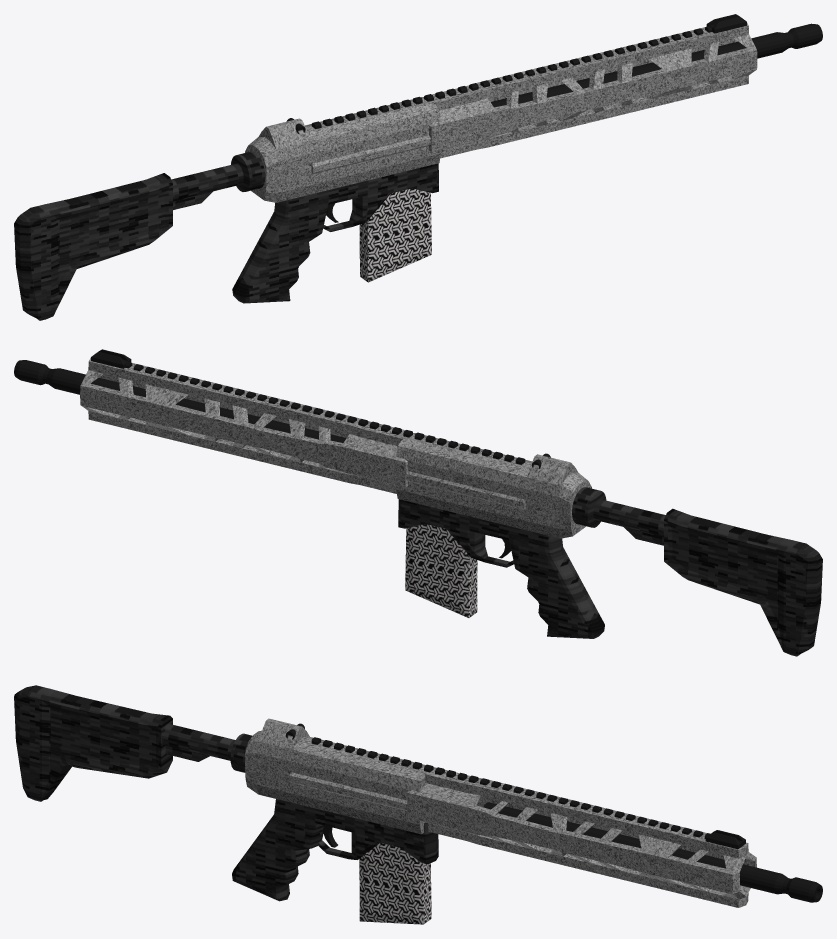
File: DMR Model V1.fbx
3 renders of one model, top to bottom at view 1: azimuth 30°, elevation 25°; view 2: azimuth 150°, elevation 25°; view 3: azimuth 330°, elevation 25°, orthographic.
Parts seen in each view (by area): view 1: DMR Bake; view 2: DMR Bake; view 3: DMR Bake.
Boxes of the visible parts, x1,y1,x2,y2 form: DMR Bake: [14, 14, 822, 320]; DMR Bake: [14, 349, 822, 656]; DMR Bake: [14, 685, 822, 924].
Size of the model in its own units: 8741 by 1827 by 451.
Materials: 1 (1 with a texture image).
